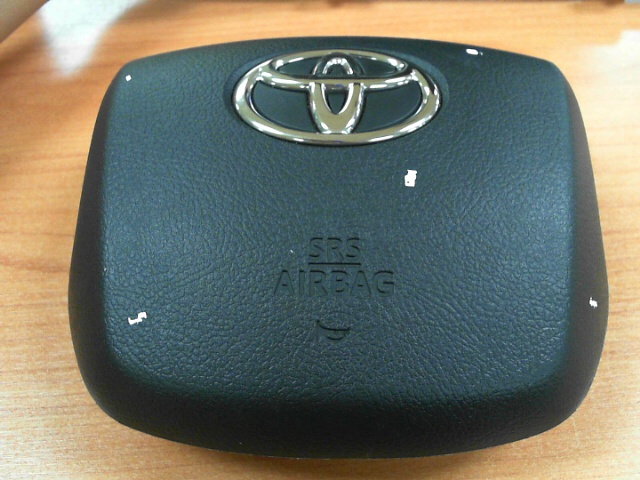Airbag: (127, 311, 148, 326), (404, 169, 418, 187), (465, 48, 484, 57), (588, 295, 599, 309), (124, 74, 132, 82)
